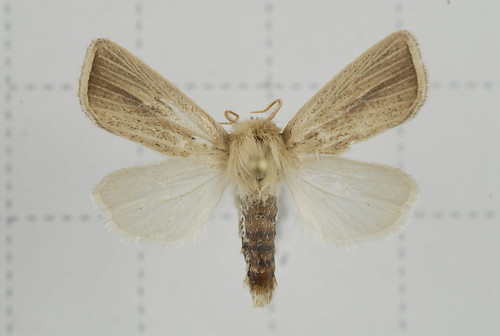Noctuidae: (77, 28, 430, 306)
